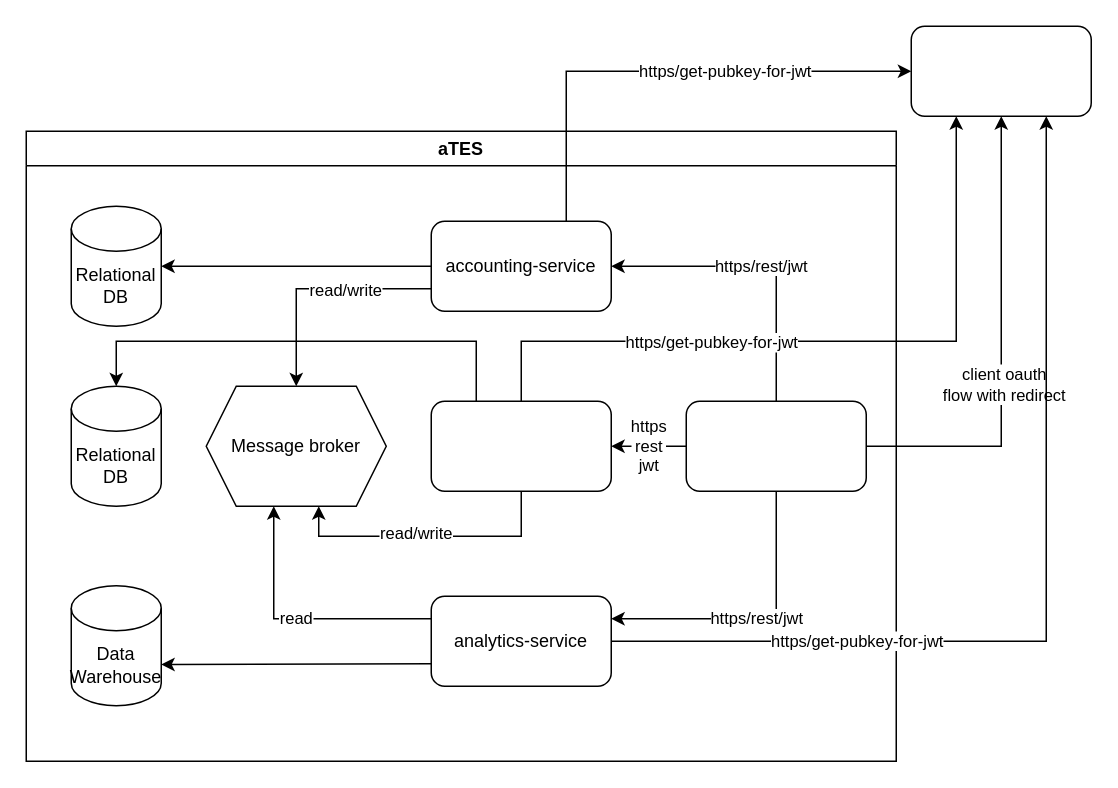
The diagram is 1118 pixels wide and 788 high, and some of its shapes have lost their labels. Each missing label, with the centre of its shape:
auth-service: the point at 1000,70
Frontend SPA: the point at 775,445
task-service: the point at 520,445
